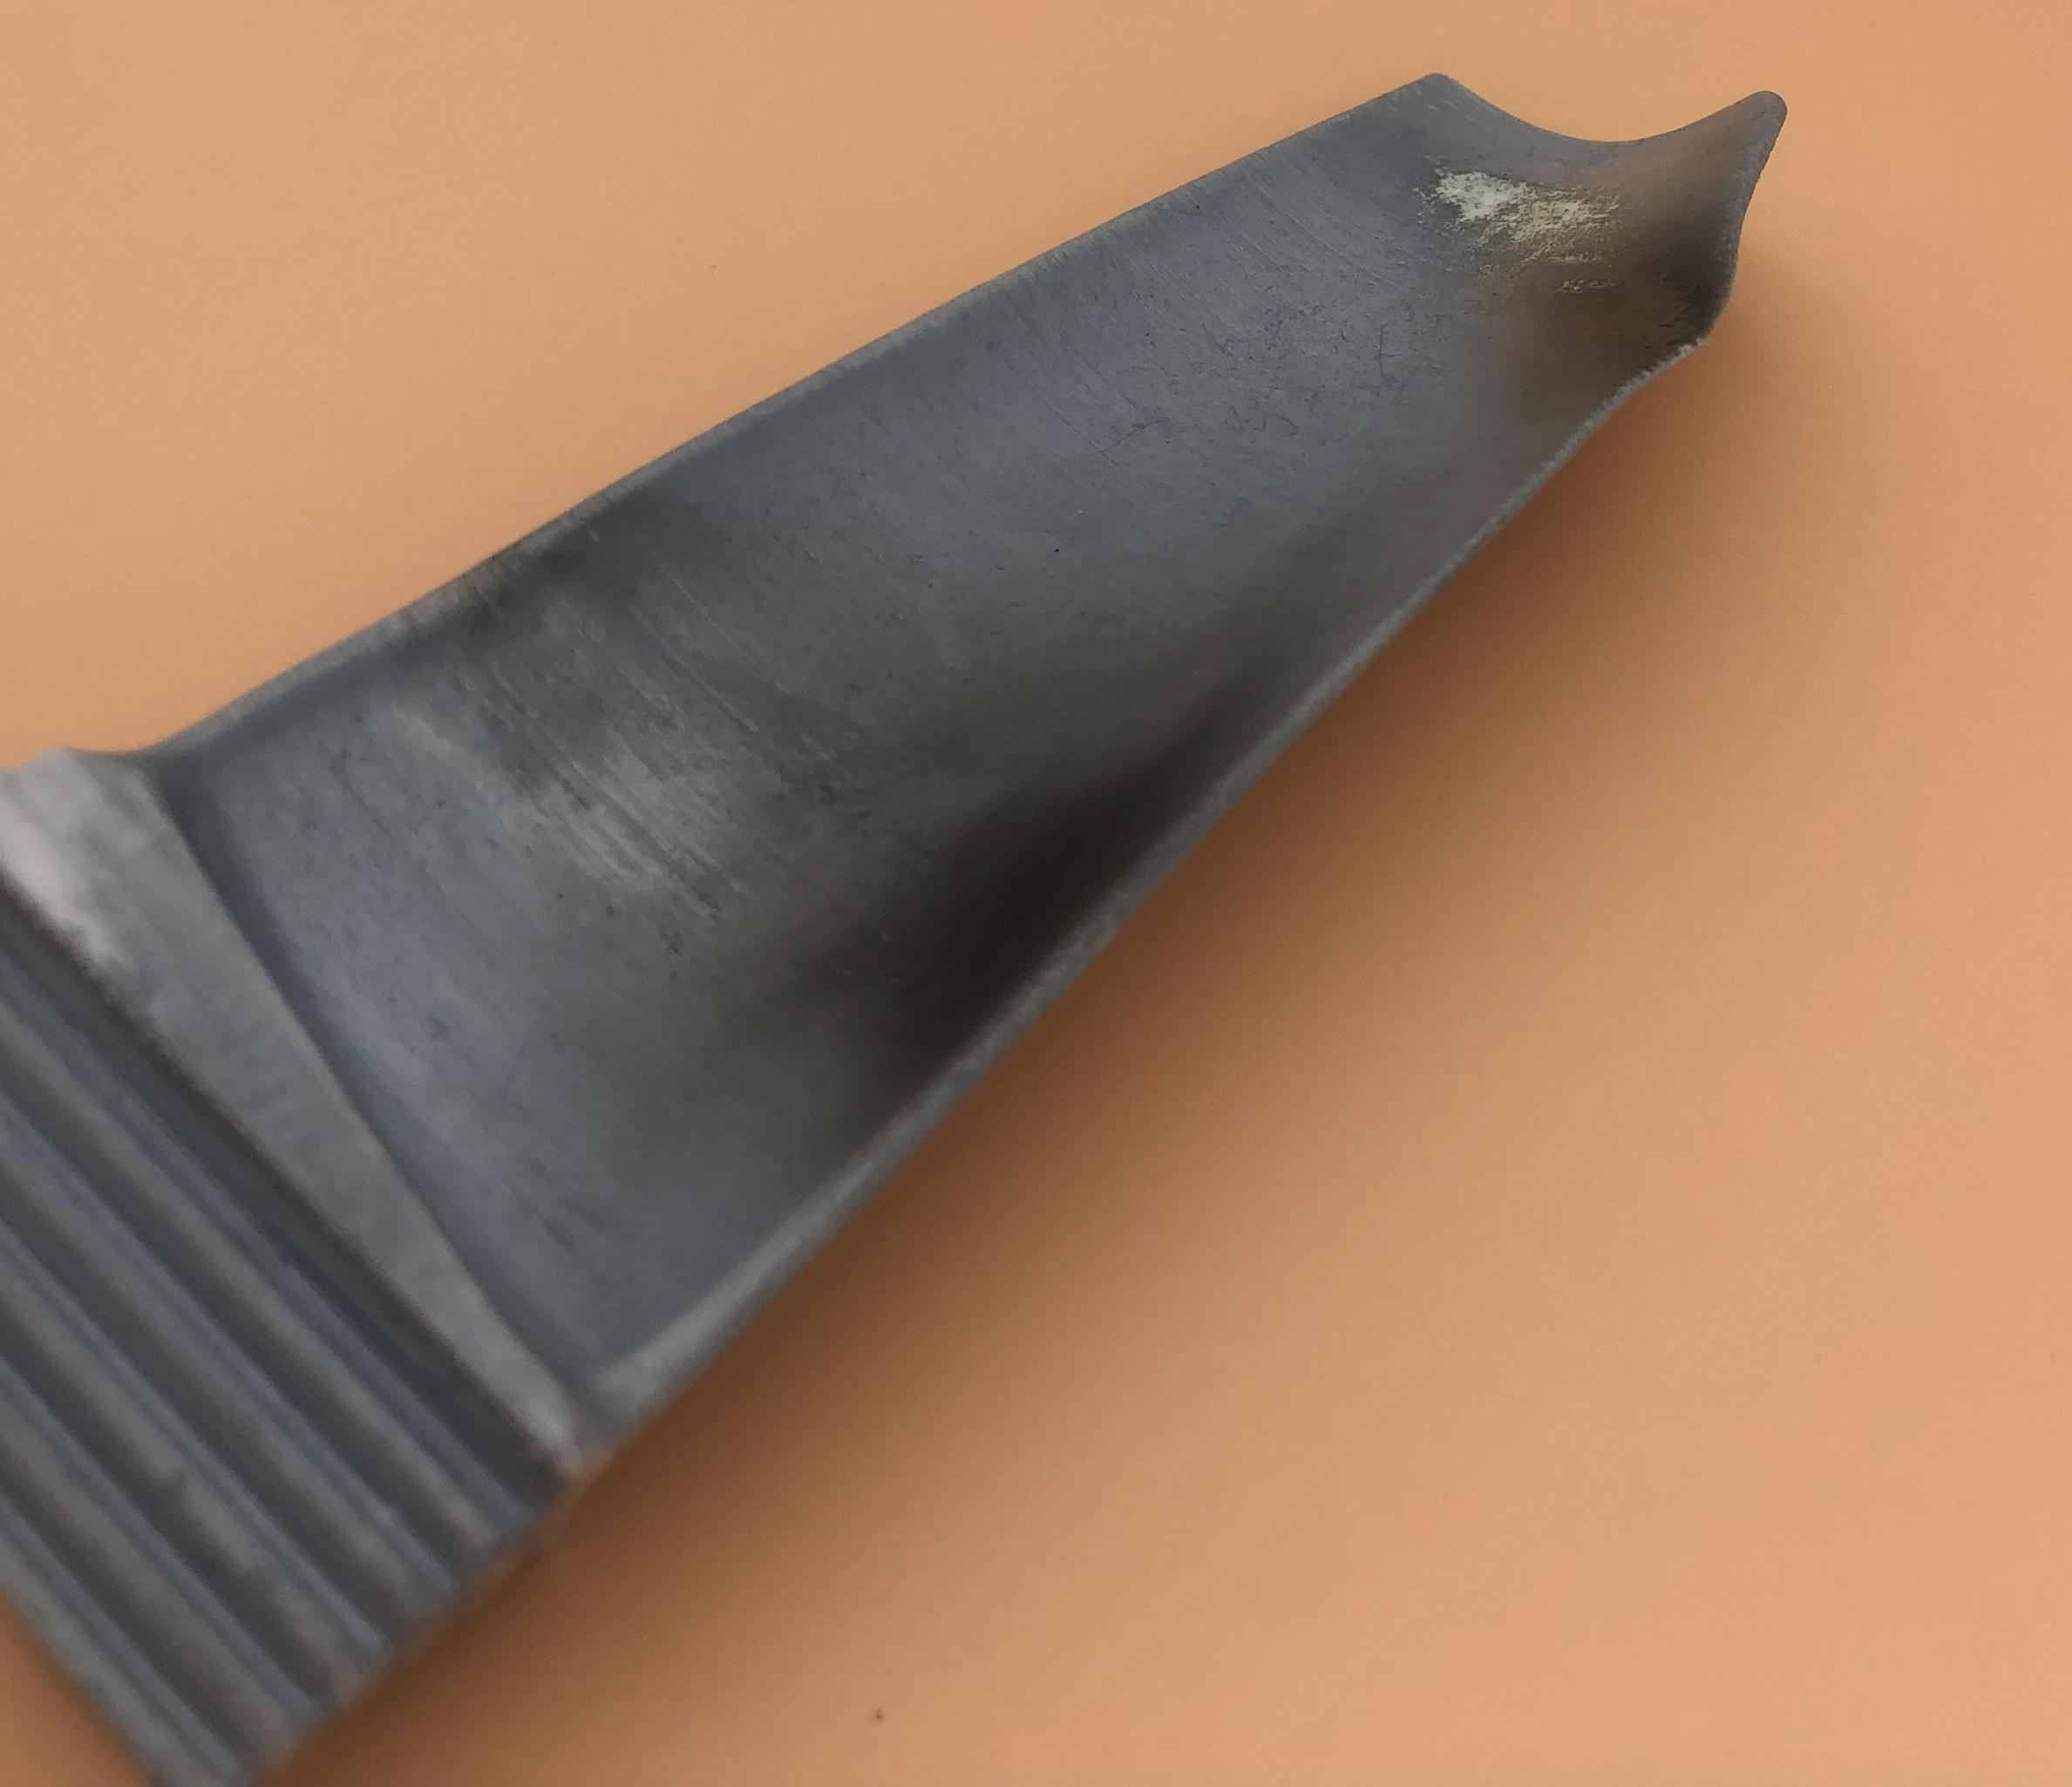ablation: (812, 726, 1161, 1020), (1501, 180, 1734, 351)
